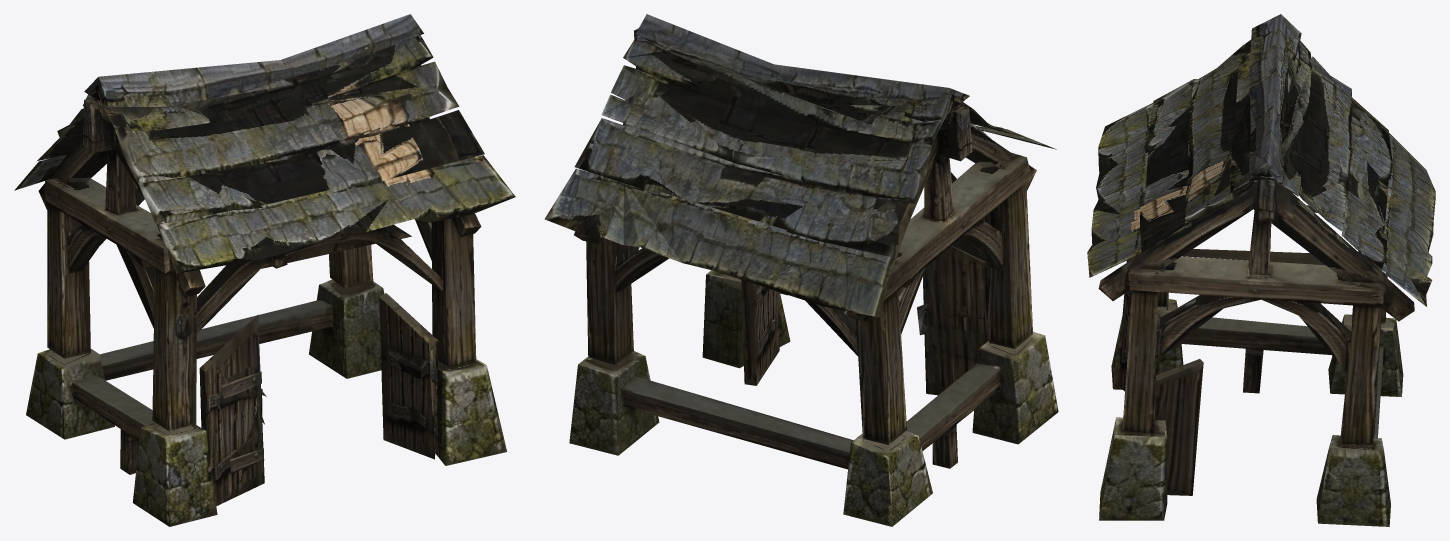
The model's file is act1_kit_v1_lychgate.glb.
3 renders of one model, left to right at view 1: azimuth 30°, elevation 25°; view 2: azimuth 150°, elevation 25°; view 3: azimuth 270°, elevation 25°, orthographic. The views are drawn at different scales.
Parts seen in each view (by area): view 1: A02_1_lychgate; view 2: A02_1_lychgate; view 3: A02_1_lychgate.
Boxes of the visible parts, x1,y1,x2,y2 form: A02_1_lychgate: (14, 14, 515, 526); A02_1_lychgate: (544, 14, 1058, 526); A02_1_lychgate: (1087, 14, 1435, 526).
Size of the model in its own units: 0.915 by 0.9928 by 0.8547.
Materials: 1 (1 with a texture image).
